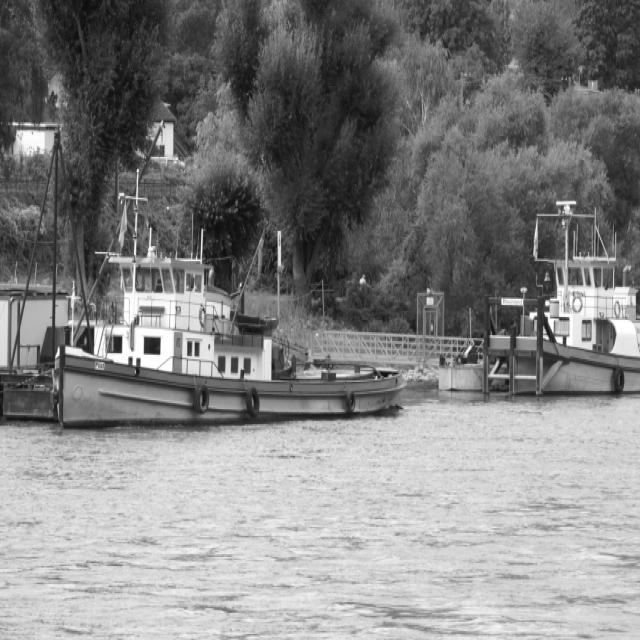tugboat: (49, 184, 404, 442), (472, 190, 640, 409)
